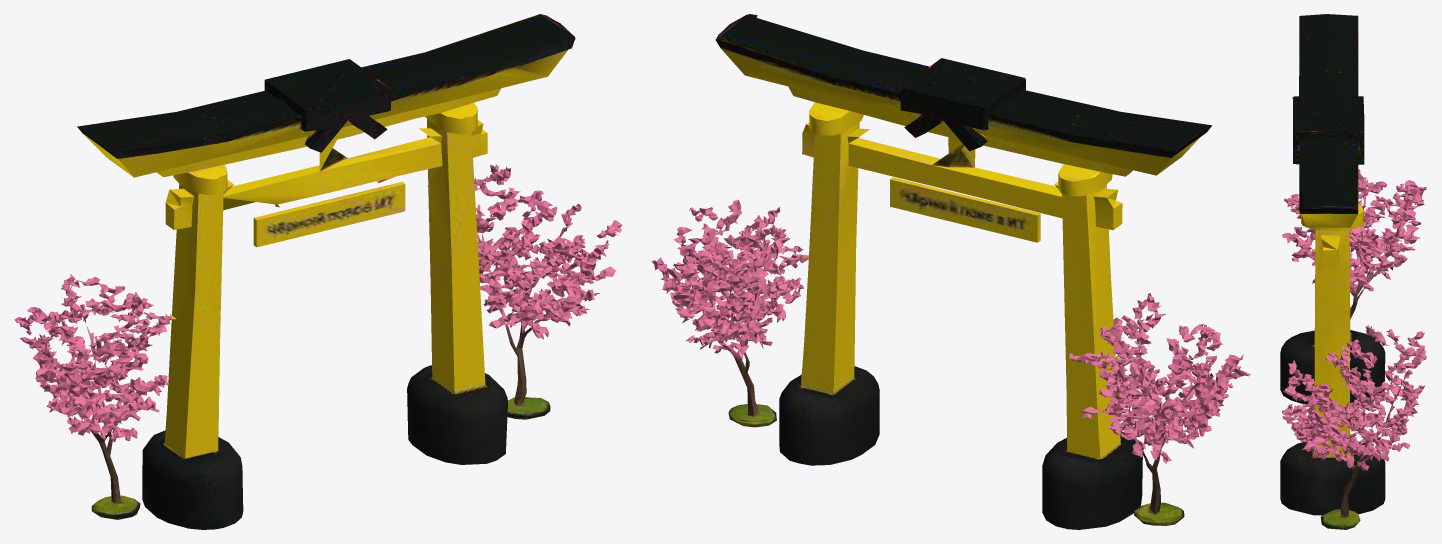
Rendered from torii.glb.
The picture shows the model from 3 angles, left to right: view 1: azimuth 30°, elevation 25°; view 2: azimuth 150°, elevation 25°; view 3: azimuth 270°, elevation 25°; orthographic projection. The views are drawn at different scales.
Visible parts, largest first — view 1: Mesh_0; view 2: Mesh_0; view 3: Mesh_0.
Part boxes in pixels (<box>): Mesh_0: <box>14,14,621,529</box>; Mesh_0: <box>651,14,1250,529</box>; Mesh_0: <box>1280,14,1426,529</box>.
Size of the model in its own units: 5.13 by 3.46 by 1.38.
Materials: 1 (1 with a texture image).
